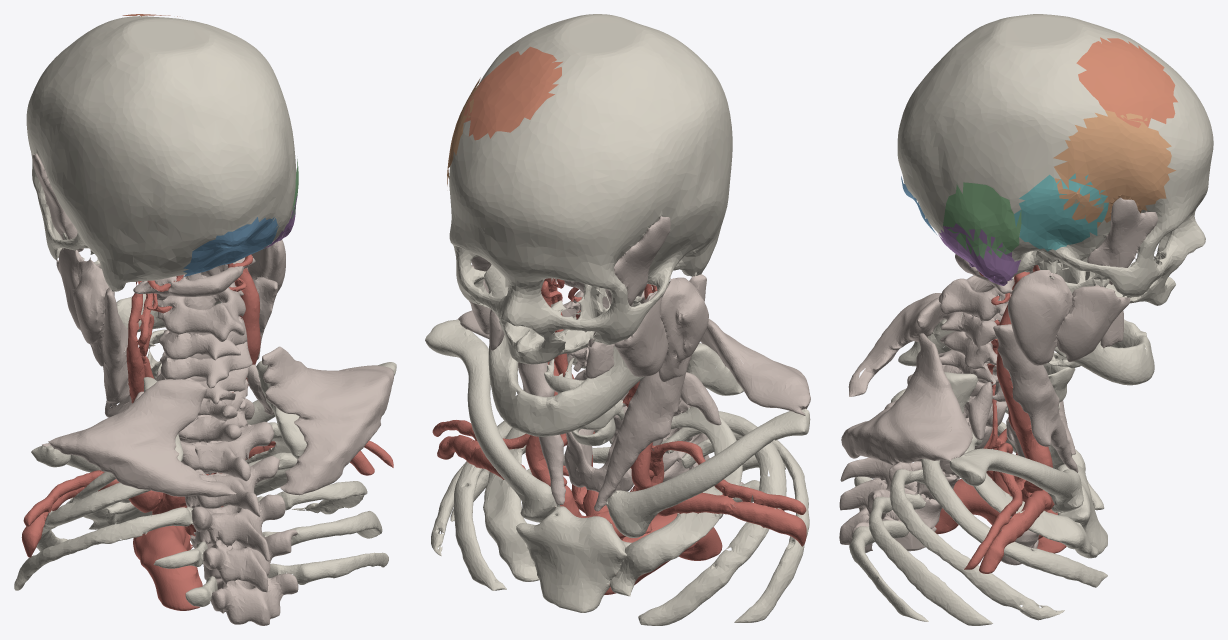
File: head_neck_ct.glb
The picture shows the model from 3 angles, left to right: view 1: azimuth 30°, elevation 25°; view 2: azimuth 150°, elevation 25°; view 3: azimuth 270°, elevation 25°; orthographic projection. The views are drawn at different scales.
Parts seen in each view (by area): view 1: skull, right trapezius muscle, left trapezius muscle, rib3, axis, arch of aorta, thoracic3, thoracic4, thoracic5, rib2, thoracic1, left sternocleidomastoideus muscle (+25 smaller); view 2: skull, rib1, rib2, sternum, mandible, right clavicle, left clavicle, Frontal craniotomy (Kocher flap), left sternocleidomastoideus muscle, left trapezius muscle, rib3, left parotid gland (+20 smaller); view 3: skull, Pterional (frontotemporal) craniotomy, right trapezius muscle, Frontal craniotomy (Kocher flap), right parotid gland, rib3, Subtemporal craniotomy, right sternocleidomastoideus muscle, rib2, Retrosigmoid craniotomy, right clavicle, mandible (+24 smaller).
Boxes of the visible parts, box(x1,y1,x2,y2) form: skull: box(26, 16, 296, 291); right trapezius muscle: box(262, 346, 393, 495); left trapezius muscle: box(42, 379, 236, 497); rib3: box(14, 481, 367, 590); axis: box(157, 272, 245, 341); arch of aorta: box(133, 525, 202, 610); thoracic3: box(191, 494, 285, 561); thoracic4: box(203, 529, 297, 592); thoracic5: box(210, 573, 298, 625); rib2: box(36, 452, 297, 551); thoracic1: box(180, 421, 273, 481); left sternocleidomastoideus muscle: box(103, 287, 131, 417); skull: box(449, 14, 732, 364); rib1: box(483, 406, 742, 596); rib2: box(454, 411, 786, 625); sternum: box(516, 506, 631, 612); mandible: box(484, 264, 663, 436); right clavicle: box(425, 319, 559, 522); left clavicle: box(606, 408, 810, 537); Frontal craniotomy (Kocher flap): box(463, 46, 562, 140); left sternocleidomastoideus muscle: box(594, 274, 706, 511); left trapezius muscle: box(700, 319, 810, 415); rib3: box(431, 432, 809, 622); left parotid gland: box(658, 277, 708, 381); skull: box(897, 14, 1213, 305); Pterional (frontotemporal) craniotomy: box(1053, 110, 1175, 227); right trapezius muscle: box(841, 333, 972, 465); Frontal craniotomy (Kocher flap): box(1076, 37, 1177, 127); right parotid gland: box(1007, 270, 1072, 365); rib3: box(890, 388, 1064, 620); Subtemporal craniotomy: box(1014, 173, 1108, 251); right sternocleidomastoideus muscle: box(993, 324, 1078, 472); rib2: box(921, 408, 1107, 587); Retrosigmoid craniotomy: box(943, 182, 1021, 259); right clavicle: box(949, 448, 1083, 513); mandible: box(1048, 259, 1154, 385).
Size of the model in its own units: 236 by 322 by 212.
